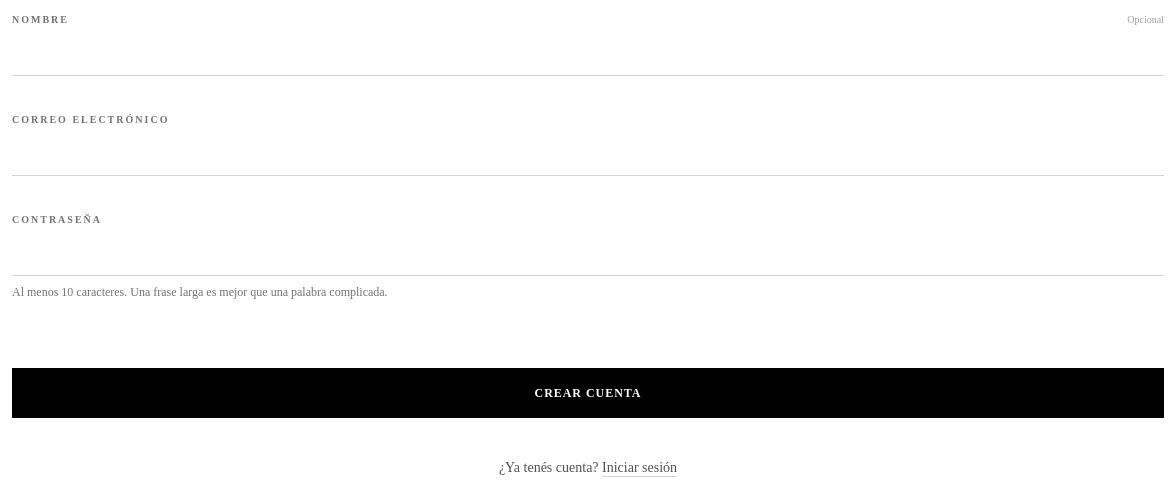
Test: SignUpForm: validation › flags required fields with aria-invalid and Spanish messages, without calling the server
Click the button "Crear cuenta" at point(588, 393), box [12,368,1164,418]
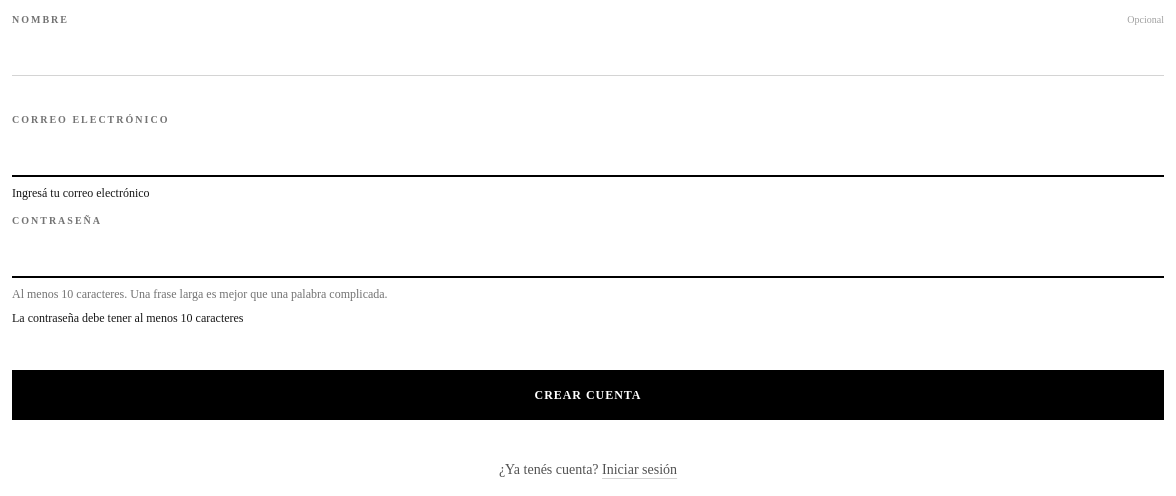
Expected: the text "Ingresá tu correo electrónico" is shown, [12,186,150,200]
